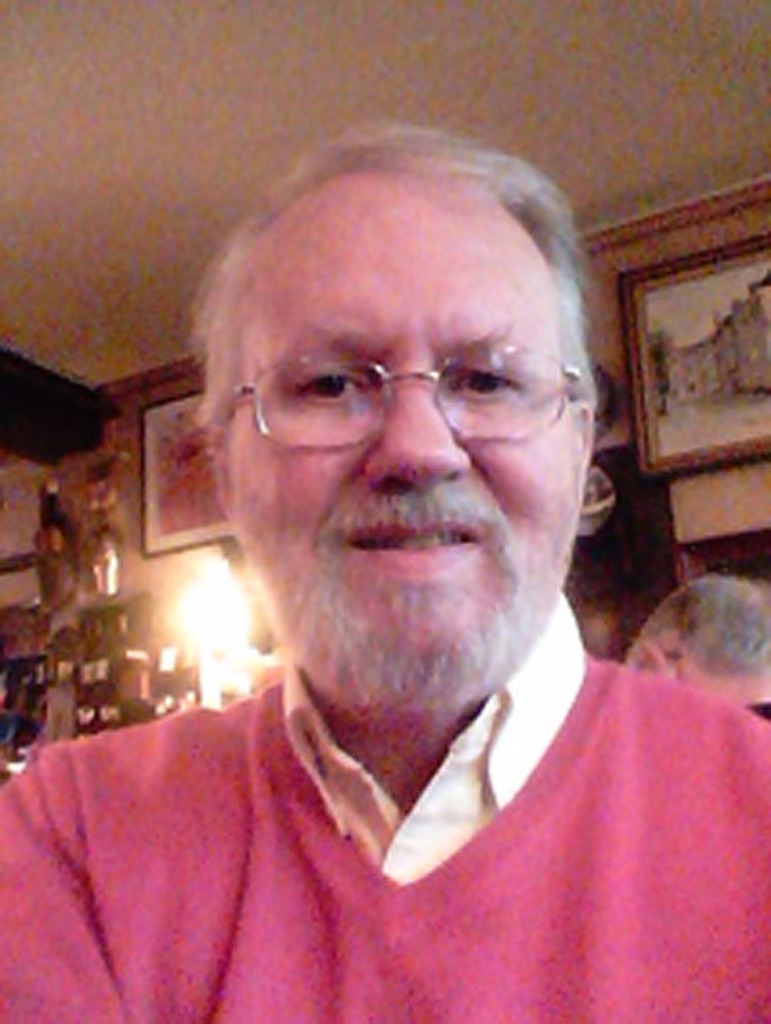Person: (627, 571, 771, 720)
